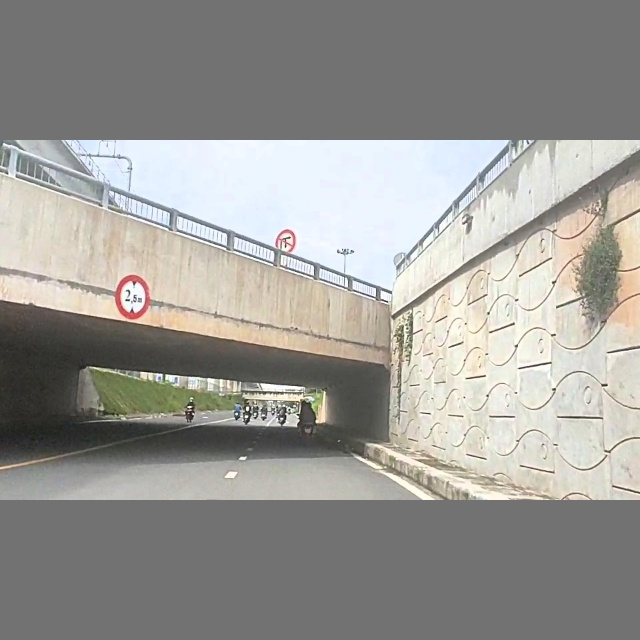P.117*: (114, 273, 152, 319)
P.124d: (274, 227, 297, 254)
